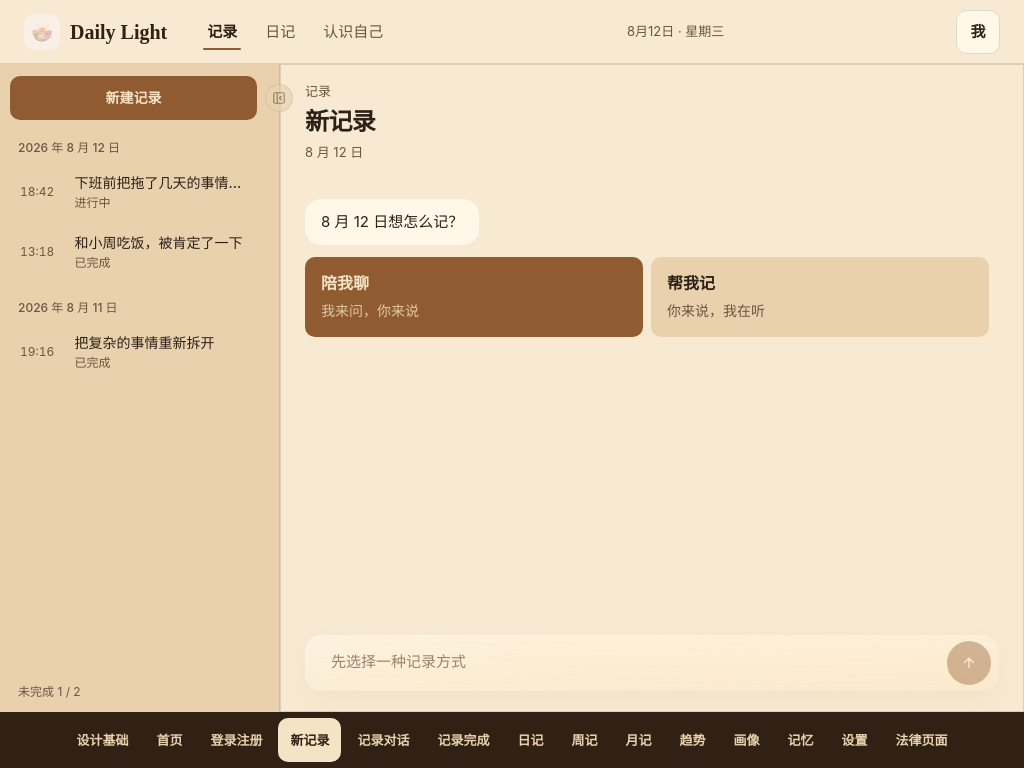
it: Daily Light 视觉验收入口 › 帮我记只保存原话并自然承接，不进入追问流程
The width and height of the screenshot is (1024, 768).
Click the button "帮我记 你来说，我在听".
click(691, 283)  # box [651,257,989,337]
Wait 450 ms
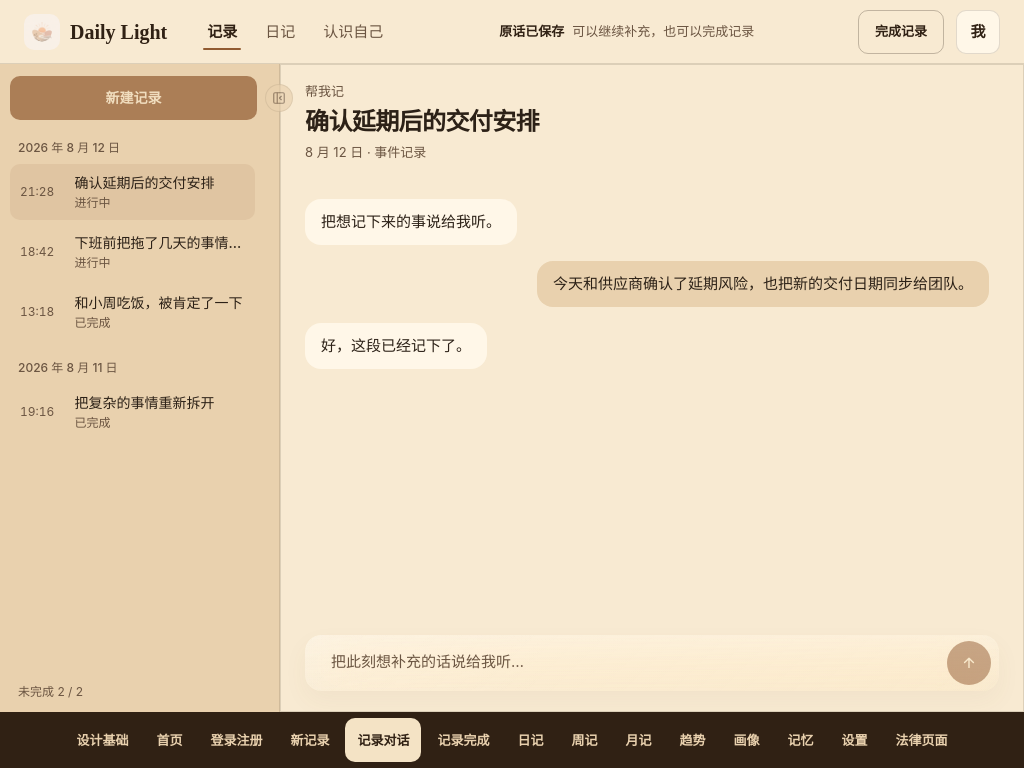
Result: the element labelled "原话已保存" is shown at [499,21,754,42]
Result: the heading "确认延期后的交付安排" is shown at [305,107,539,136]
Result: the text "好，这段已经记下了。" is shown at [321,333,471,359]
Type "新的交付日期是下周三。" into the text box named "输入当前事件".
click(652, 663); type("新的交付日期是下周三。")  # box [315,641,989,685]
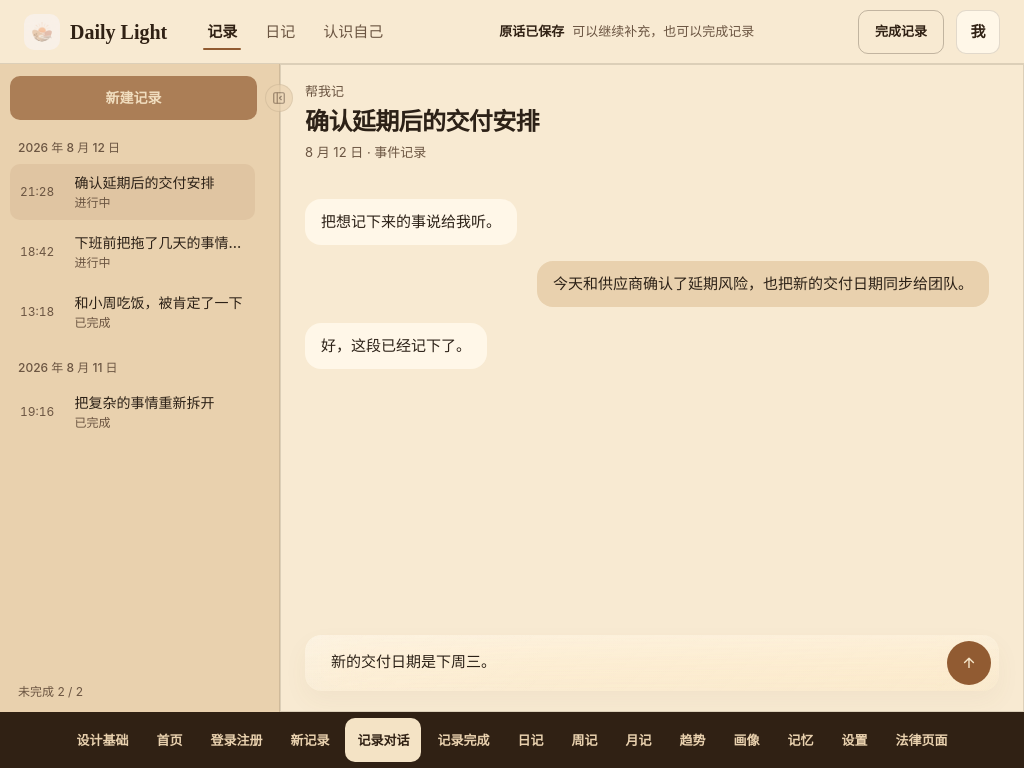
Click the button named "发送".
click(969, 663)  # box [947,641,991,685]
Wait 620 ms
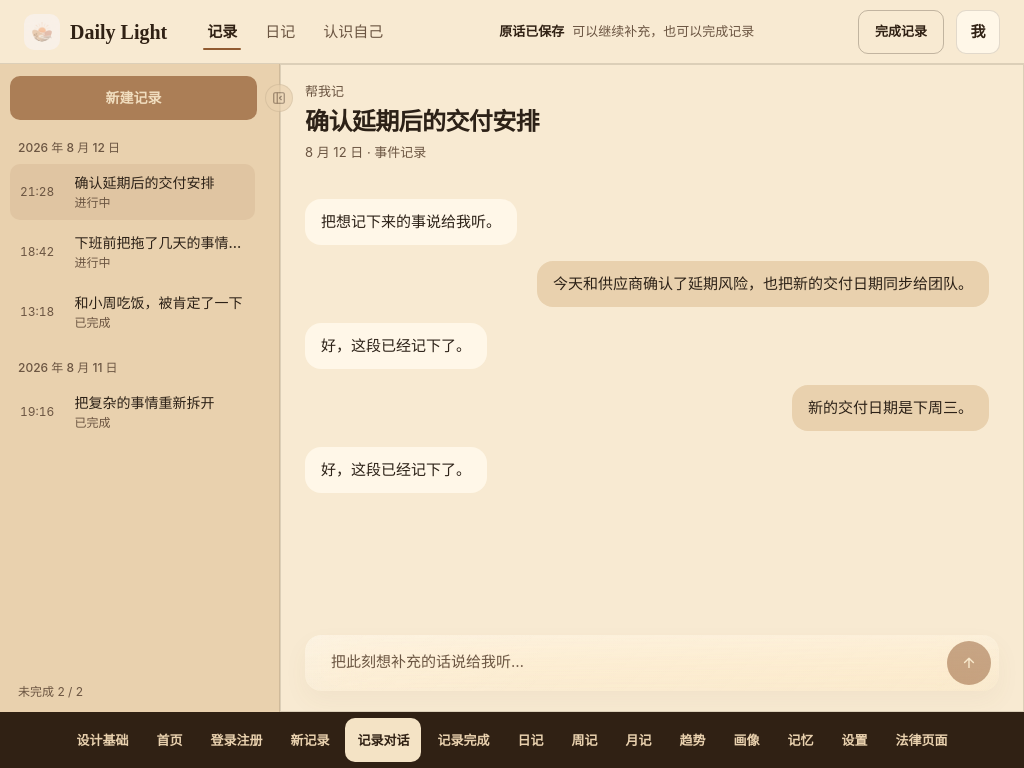
Result: the text "新的交付日期是下周三。" is shown at [792,385,989,431]
Result: the text "好，这段已经记下了。" is shown 2 times at [321,333,471,359]; [321,457,471,483]
